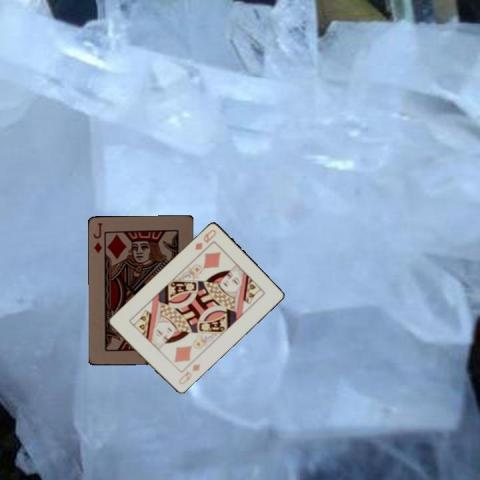Jd: (90, 220, 104, 255)
Qd: (191, 226, 218, 251), (176, 361, 202, 386)
